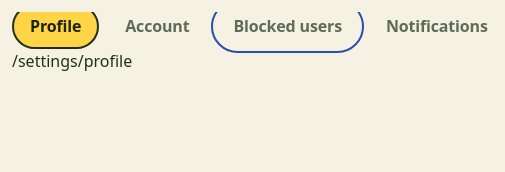
Test: SettingsNavigationTests › every settings surface reaches Blocked users and exposes current state
The image size is (505, 172).
Click the link "Blocked users": [288, 26] box [233,15,342,37]
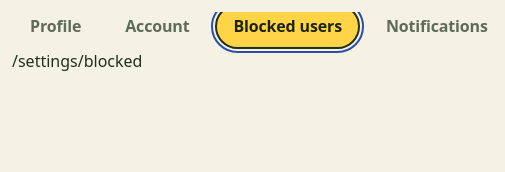
Check: the text with test id "location" reads "/settings/blocked", box [12,50,142,72]
